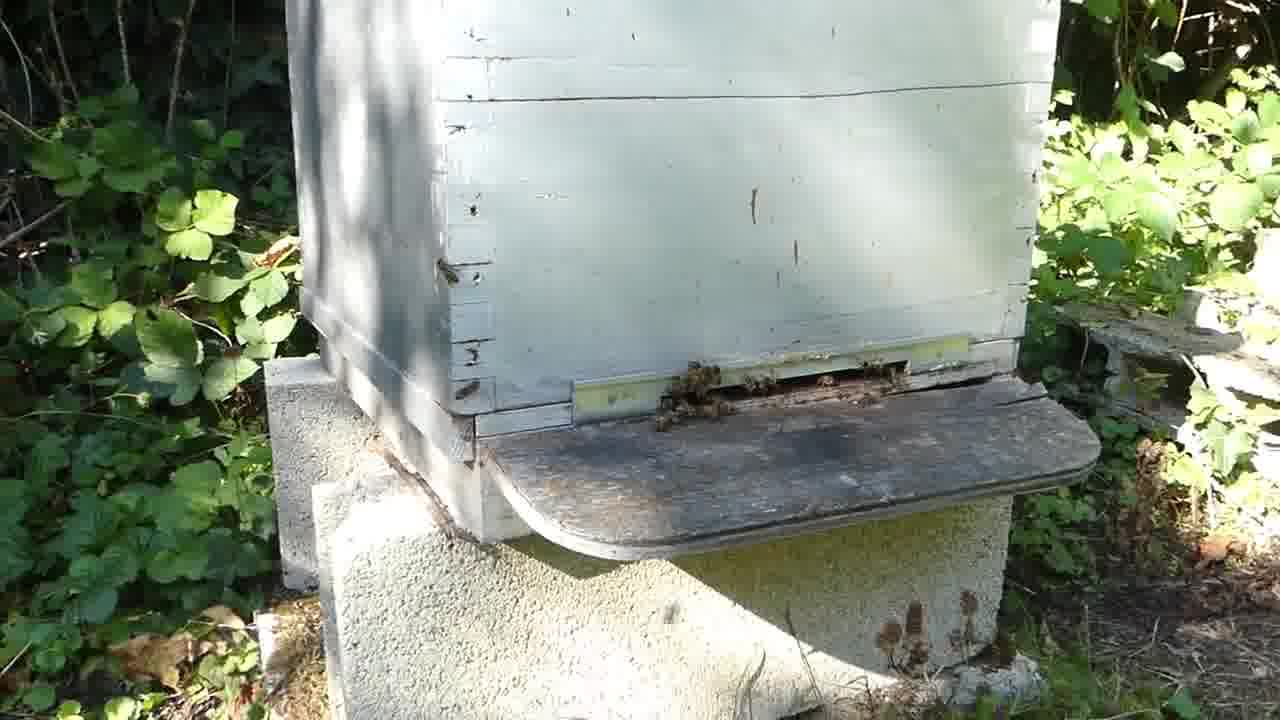bee: (435, 254, 464, 288)
